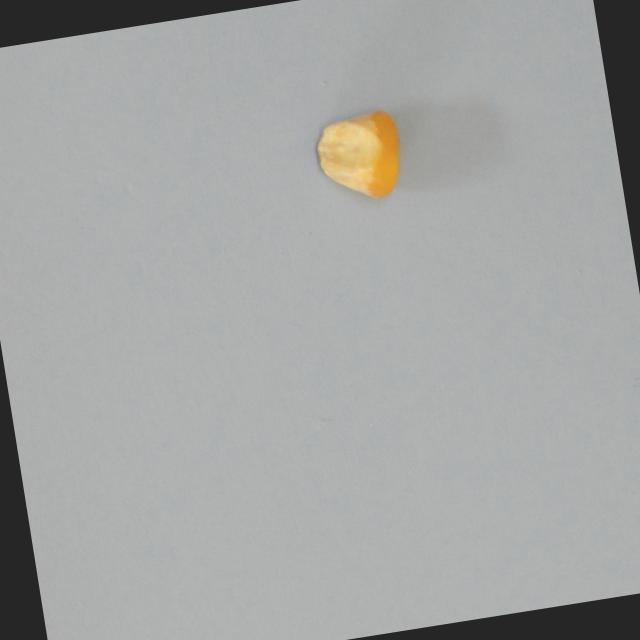entero: (309, 103, 411, 208)
